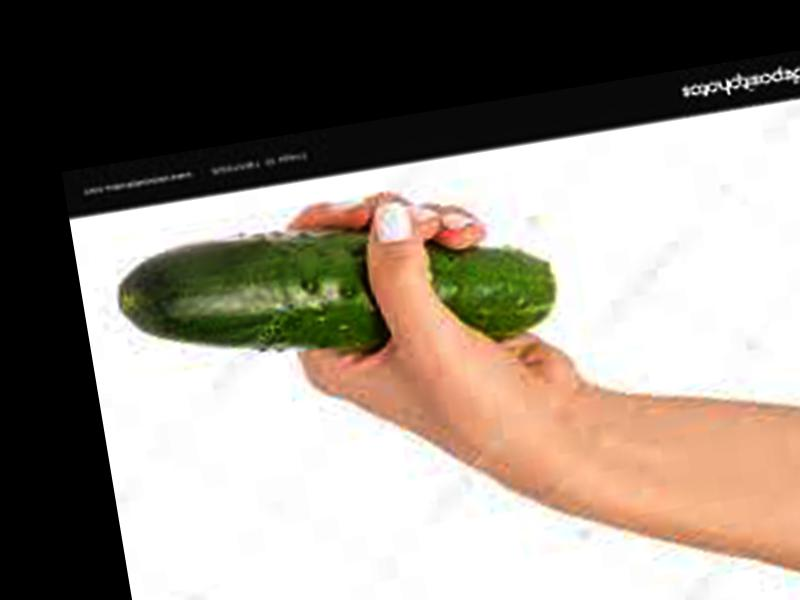Cucumber: (107, 187, 559, 397)
